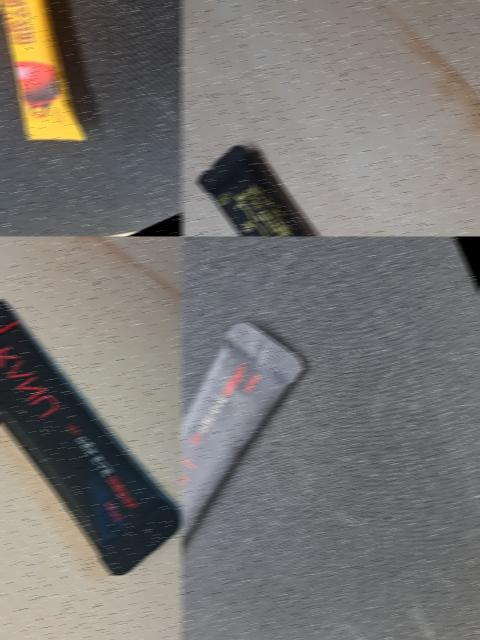KANU: (0, 236, 183, 619), (181, 290, 374, 623)
espresso_mini: (181, 97, 472, 236)
mix_coffee: (0, 0, 163, 167)
